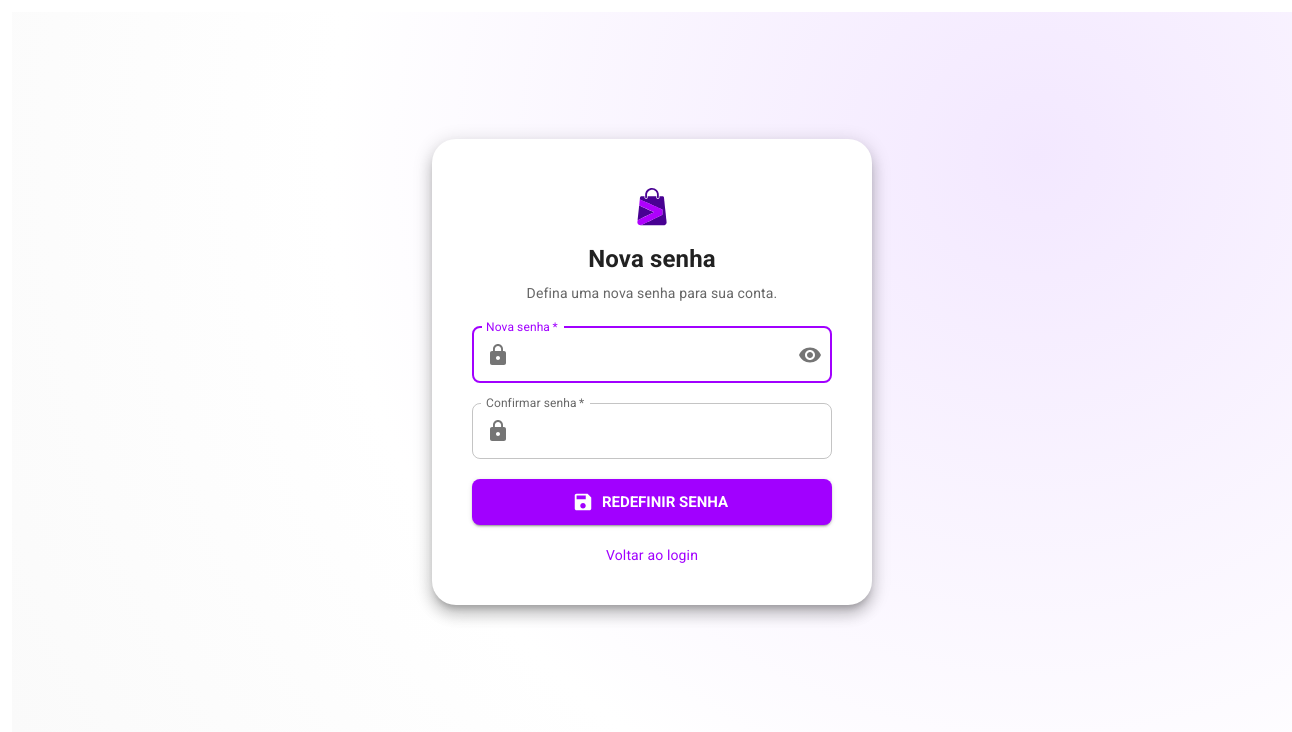
ResetPassword › sucesso navega para /login
In the password field labelled "Nova senha *": {"x": 650, "y": 355} [518,327,782,383], type "12345678"
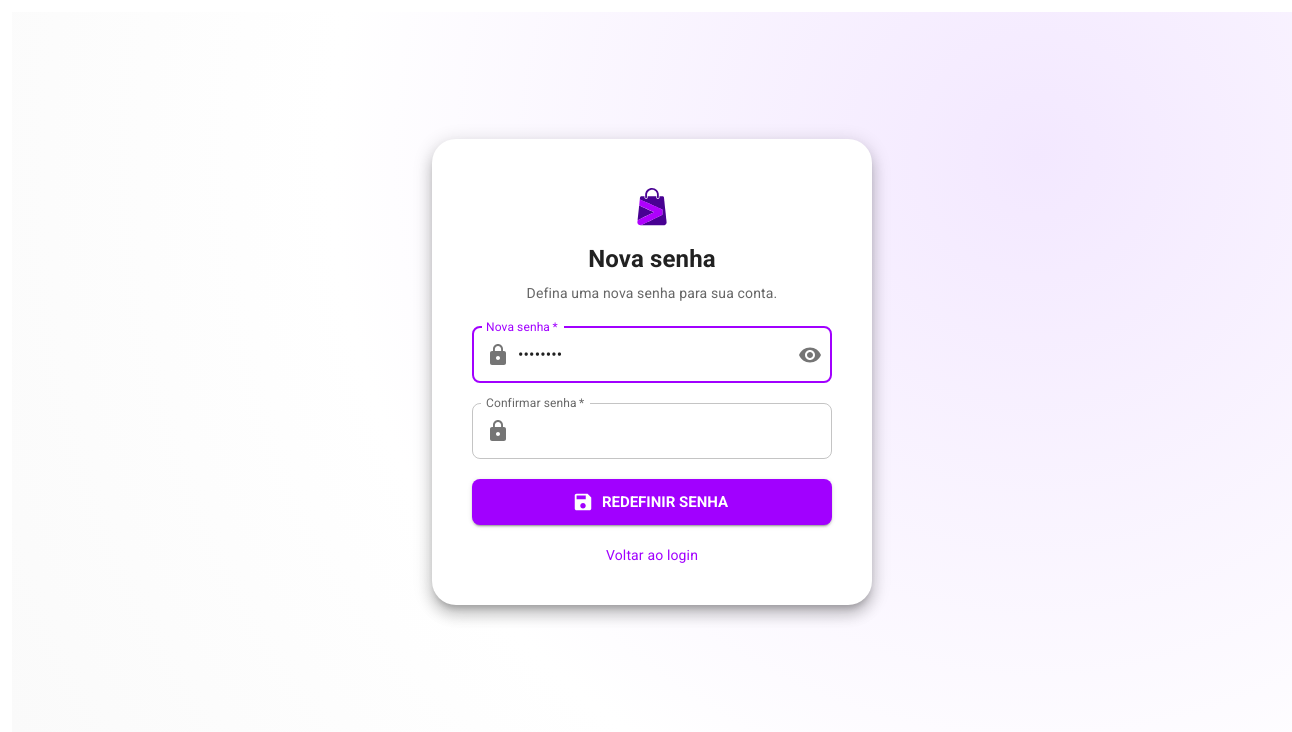
In the password field labelled "Confirmar senha *": {"x": 675, "y": 431} [518,403,832,459], type "12345678"
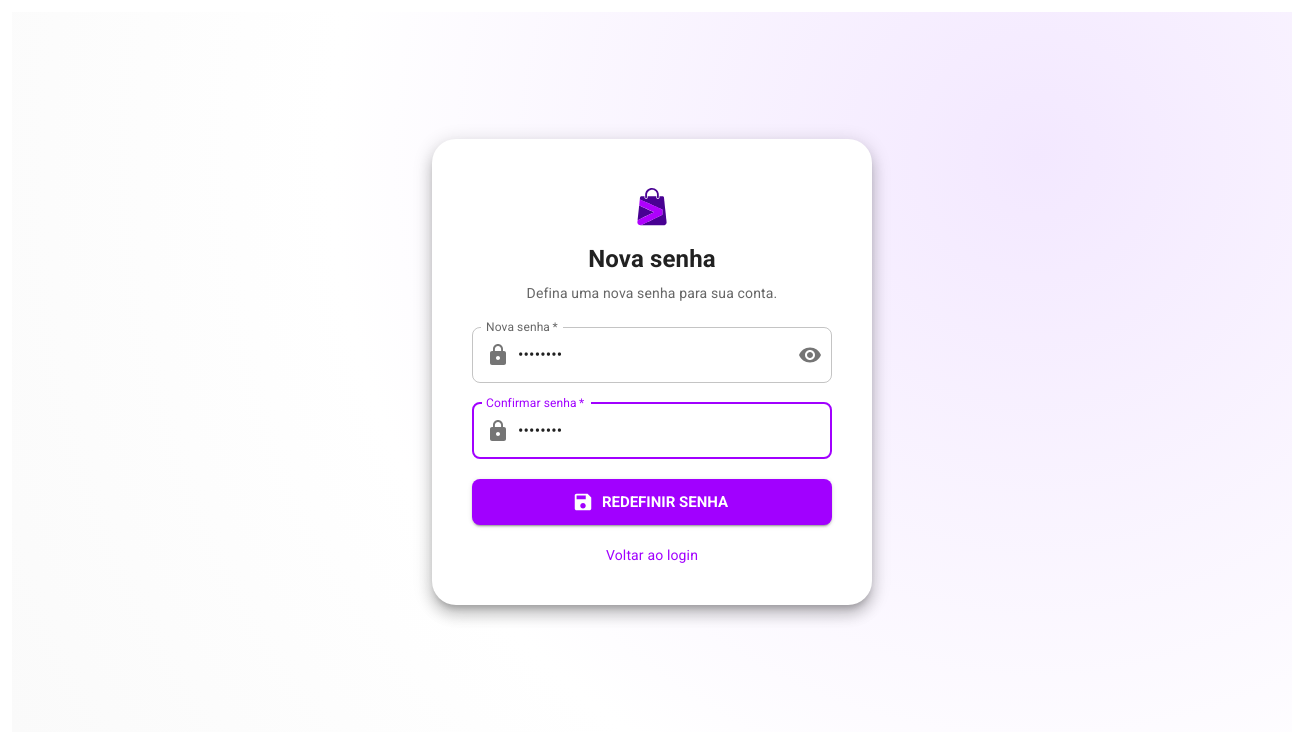
Click the button "Redefinir senha": {"x": 652, "y": 502} [472,479,832,525]
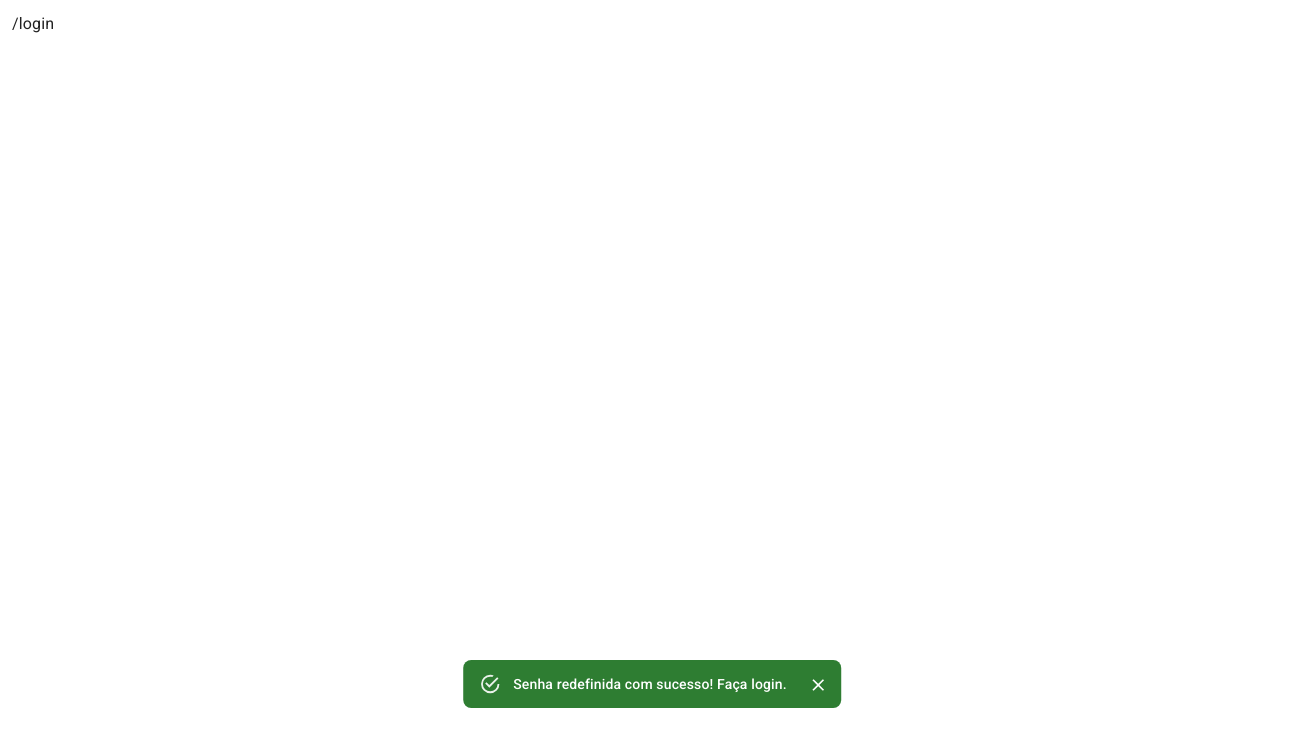
Expected: the text with test id "loc" reads "/login", [12,14,54,33]
